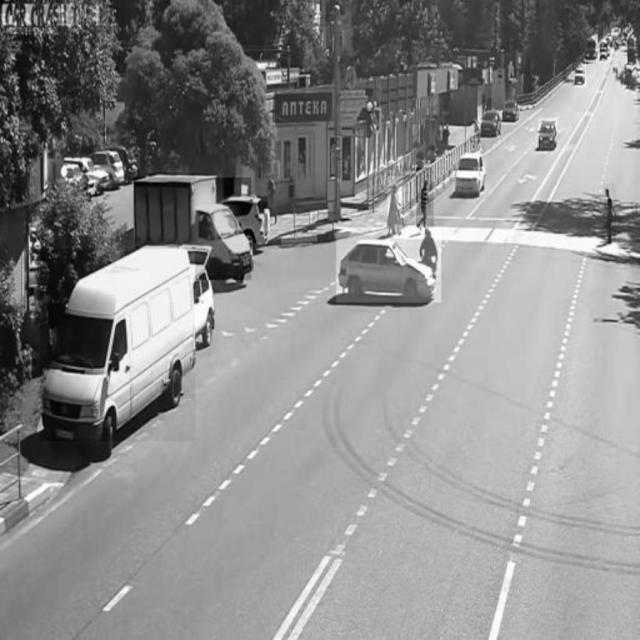accident: (337, 227, 441, 303)
person: (418, 168, 435, 234), (387, 178, 403, 230), (603, 184, 617, 242)
vehicle: (40, 249, 194, 441), (135, 178, 253, 280), (224, 196, 268, 242), (453, 152, 487, 194), (94, 148, 124, 184), (479, 108, 503, 138), (538, 118, 558, 152), (503, 92, 520, 120), (575, 62, 587, 87)
